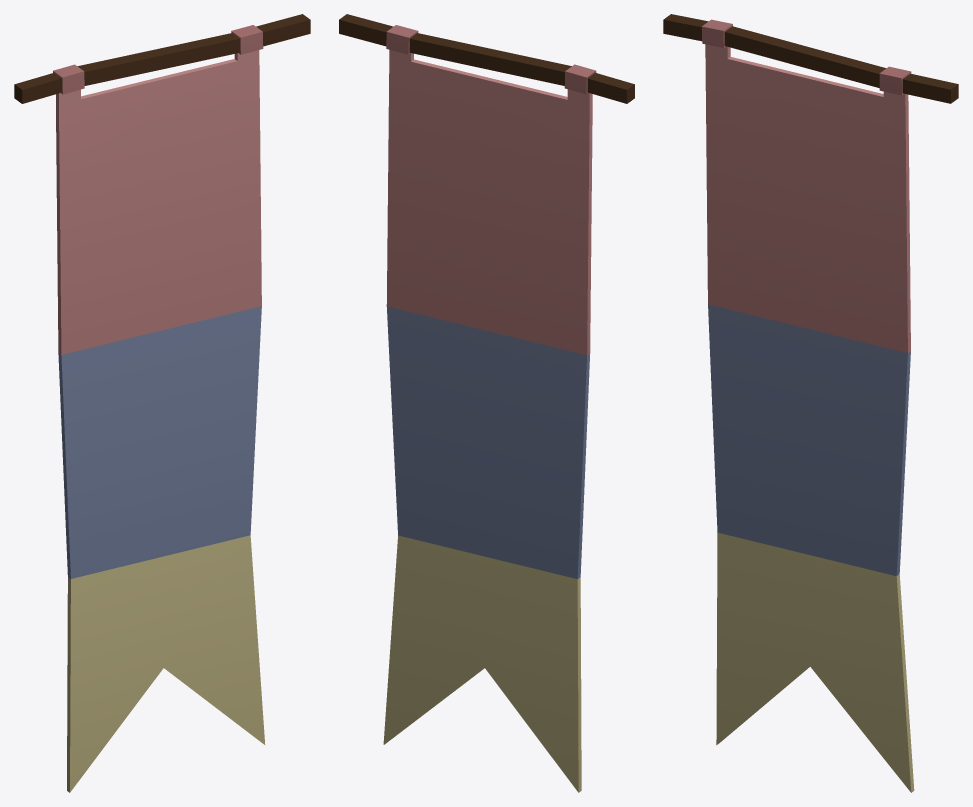
The picture shows the model from 3 angles, left to right: view 1: azimuth 30°, elevation 25°; view 2: azimuth 150°, elevation 25°; view 3: azimuth 330°, elevation 25°; orthographic projection.
Parts seen in each view (by area): view 1: Flag2_0; view 2: Flag2_0; view 3: Flag2_0.
Boxes of the visible parts, x1,y1,x2,y2 form: Flag2_0: (14, 14, 310, 792); Flag2_0: (339, 14, 634, 792); Flag2_0: (663, 14, 958, 792).
Bounding box in the file's own units: 5.48 × 13.1 × 0.3129.
Materials: 1 (1 with a texture image).
